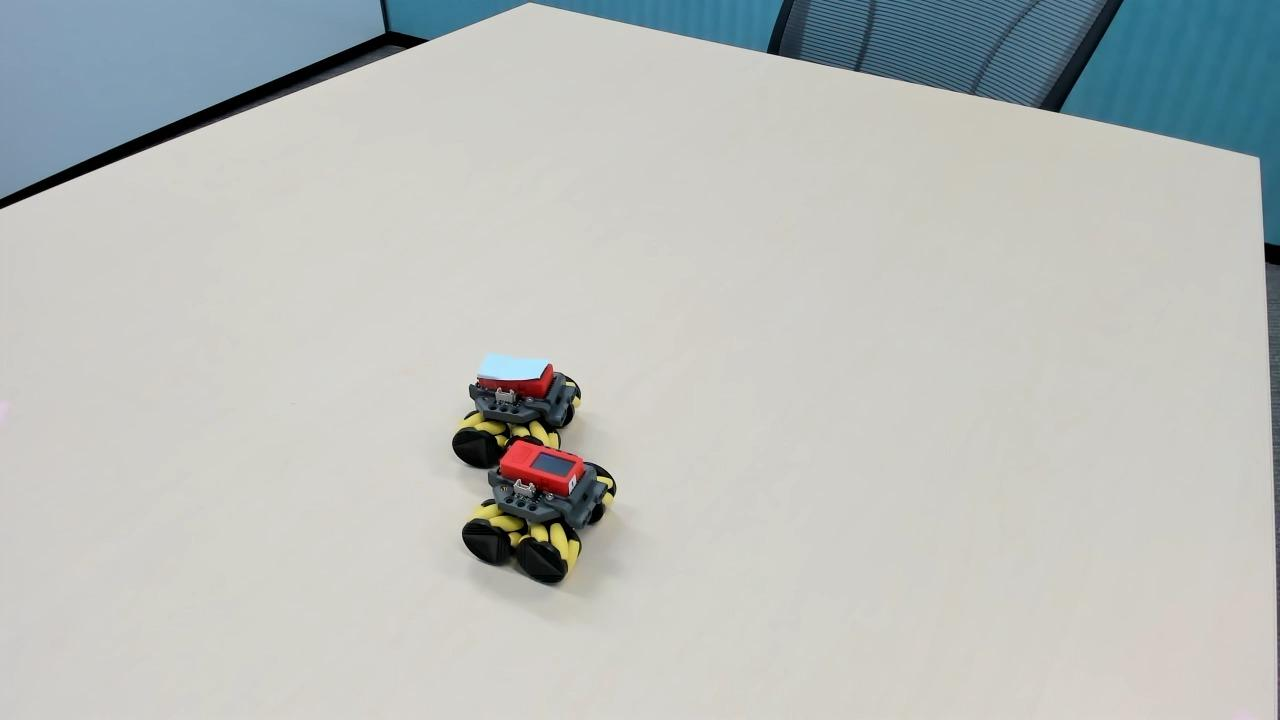B-Robot: (441, 352, 588, 445)
R-Robot: (464, 439, 628, 600)
